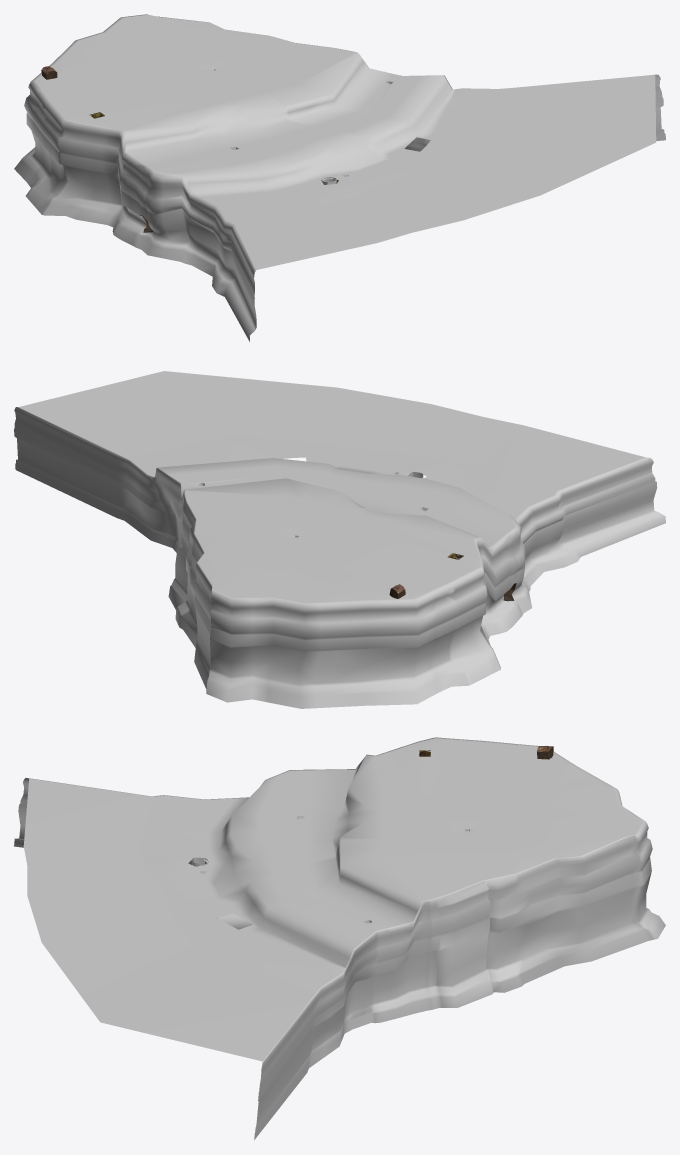
File: FURREALSPENNINSULA.fbx
3 views of the same model, one above another, from view 1: azimuth 30°, elevation 25°; view 2: azimuth 150°, elevation 25°; view 3: azimuth 270°, elevation 25° (orthographic). The views are drawn at different scales.
Parts seen in each view (by area): view 1: polySurface68; view 2: polySurface68; view 3: polySurface68.
Boxes of the visible parts, box(x1,y1,x2,y2) form: polySurface68: box(14, 14, 665, 341); polySurface68: box(14, 371, 665, 708); polySurface68: box(14, 737, 665, 1140).
Bounding box in the file's own units: 5966 × 1066 × 5331.
